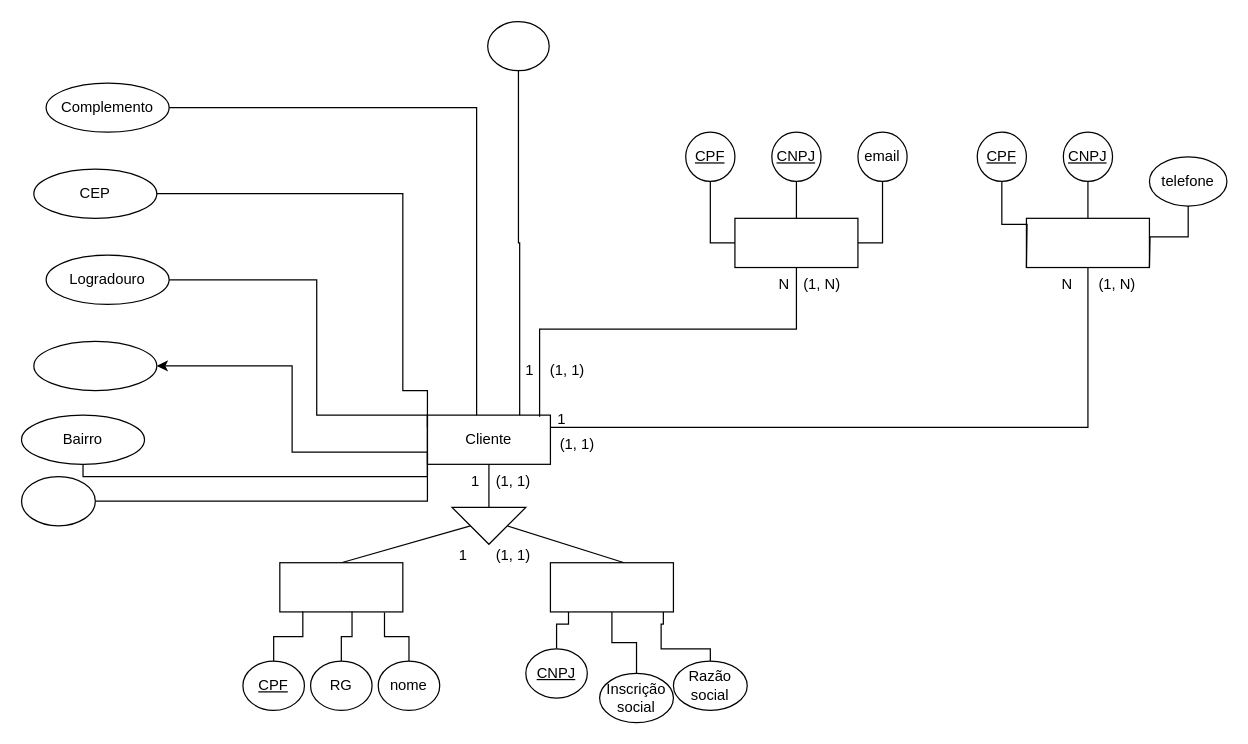
The diagram is 1248 pixels wide and 744 high, and some of its shapes have lost their labels. Each missing label, with the centre of its shape:
Cidade: (57,500)
Cliente_email: (796,242)
Cliente_telefone: (1087,242)
Crédito: (517,45)
Número: (95,365)
PF: (341,586)
PJ: (611,586)
